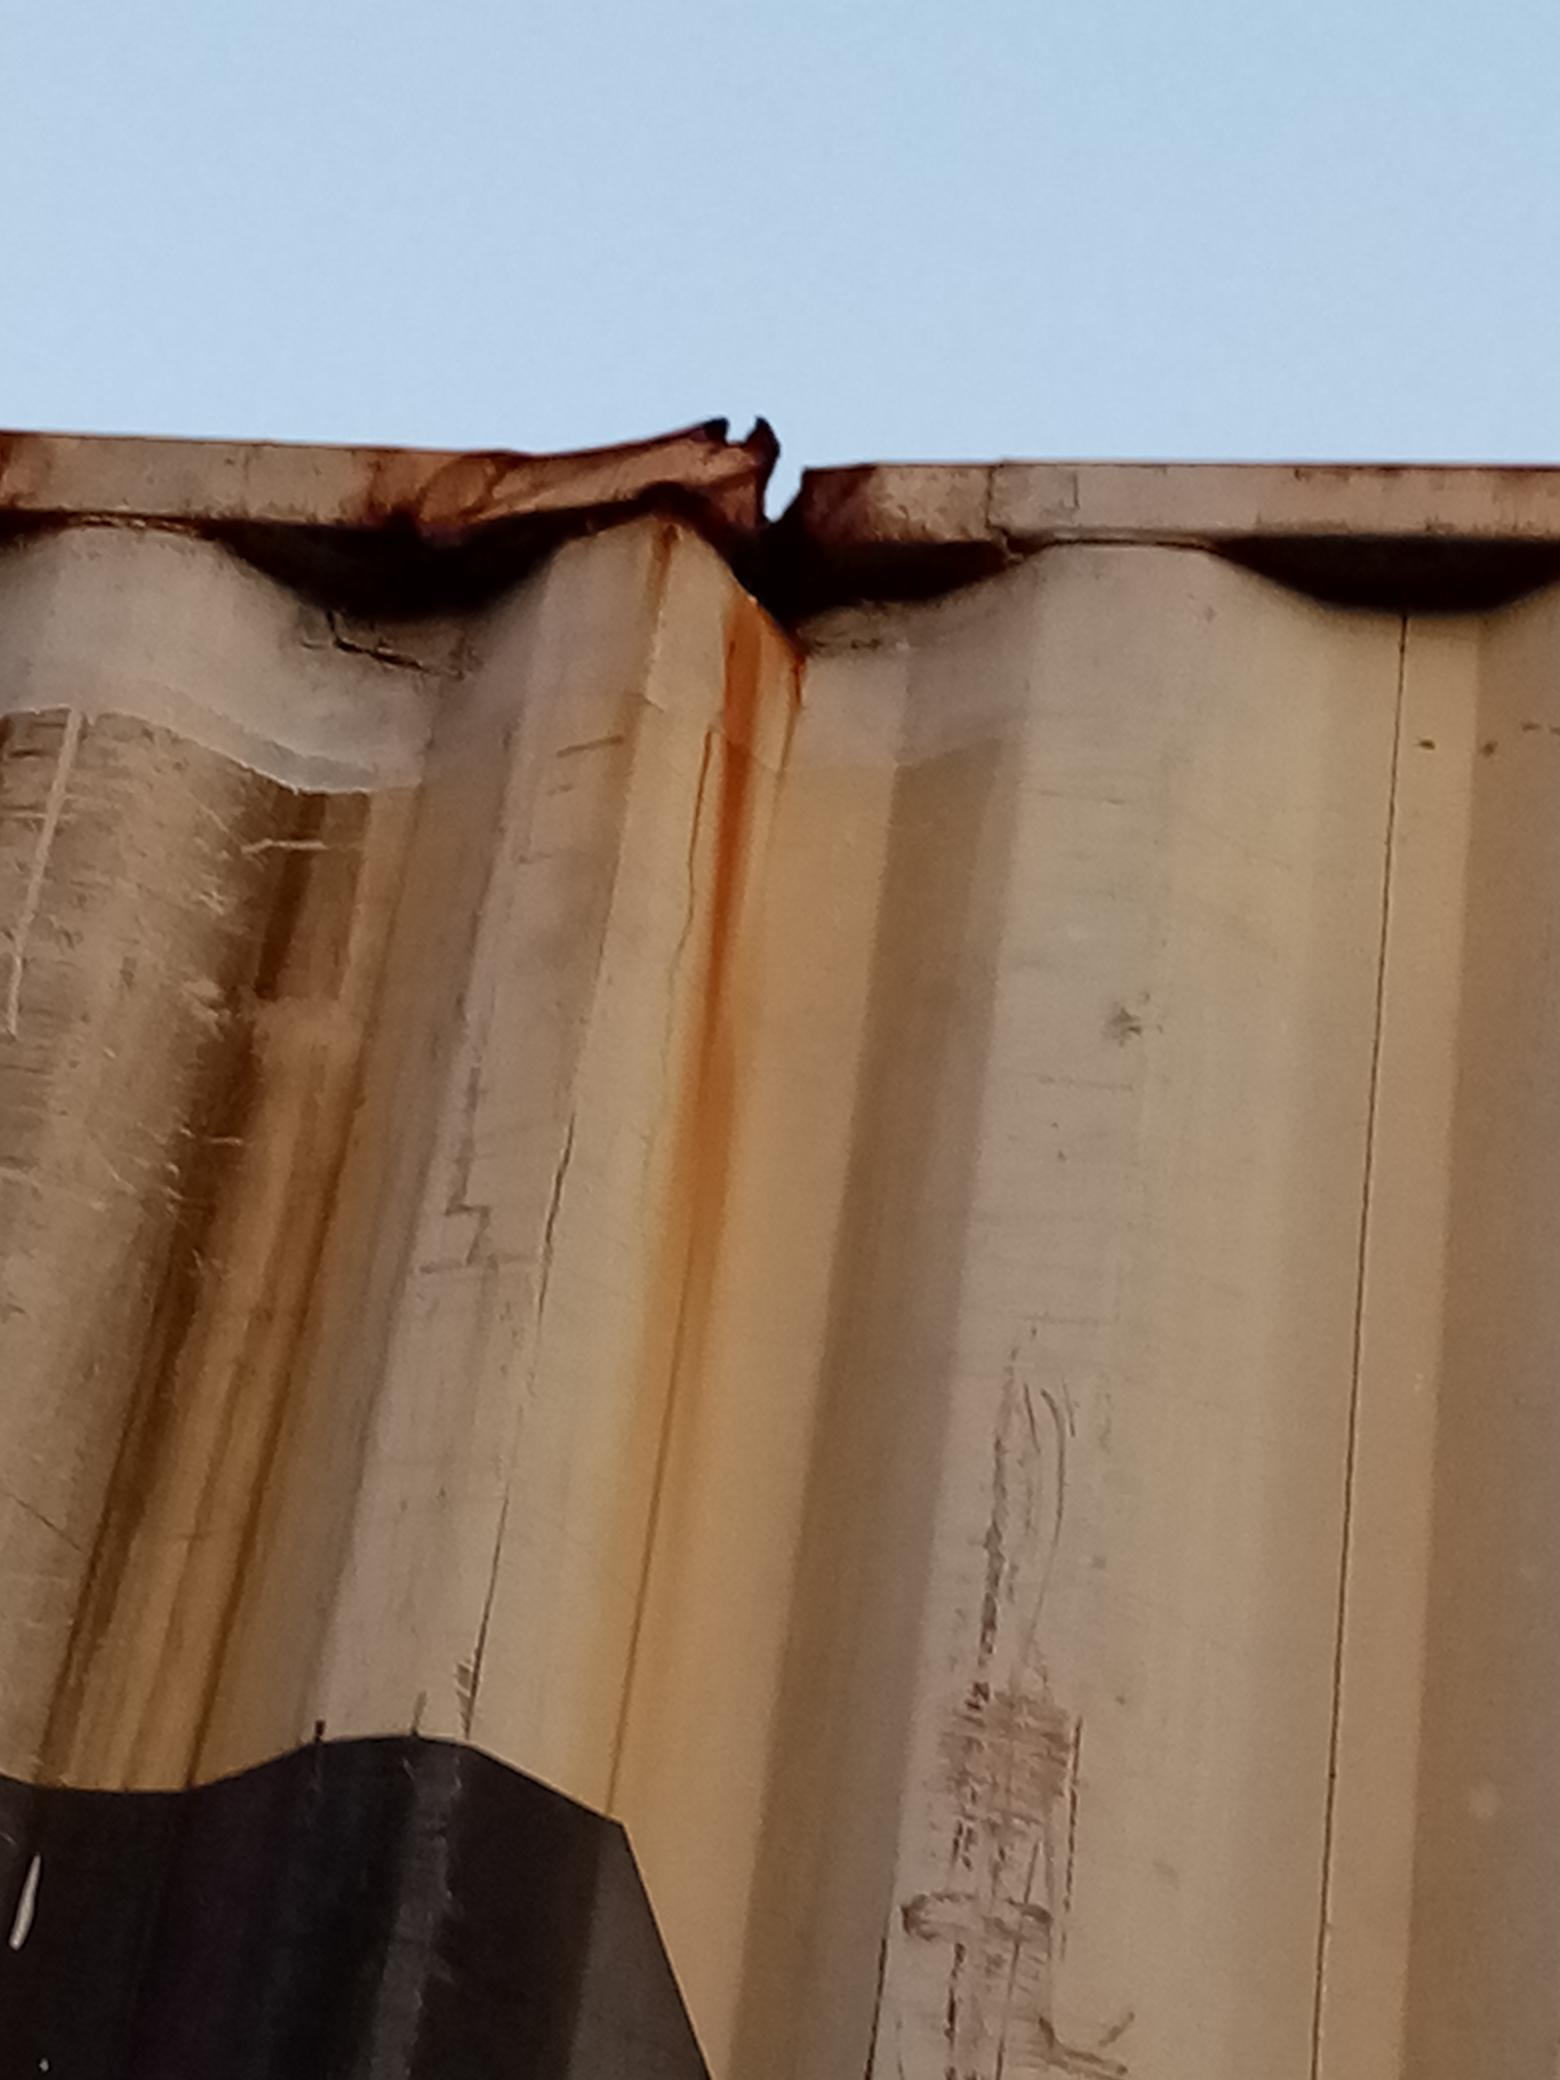cut: (488, 439, 1113, 716)
